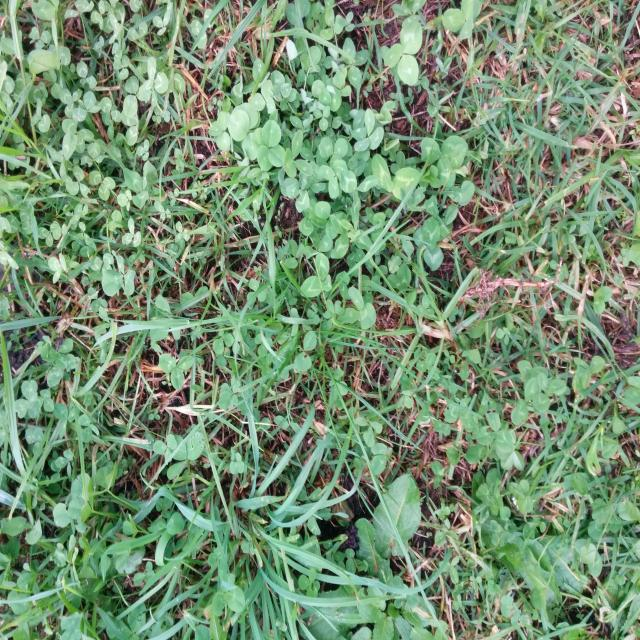Four Leaf Clover: (251, 120, 285, 171)
